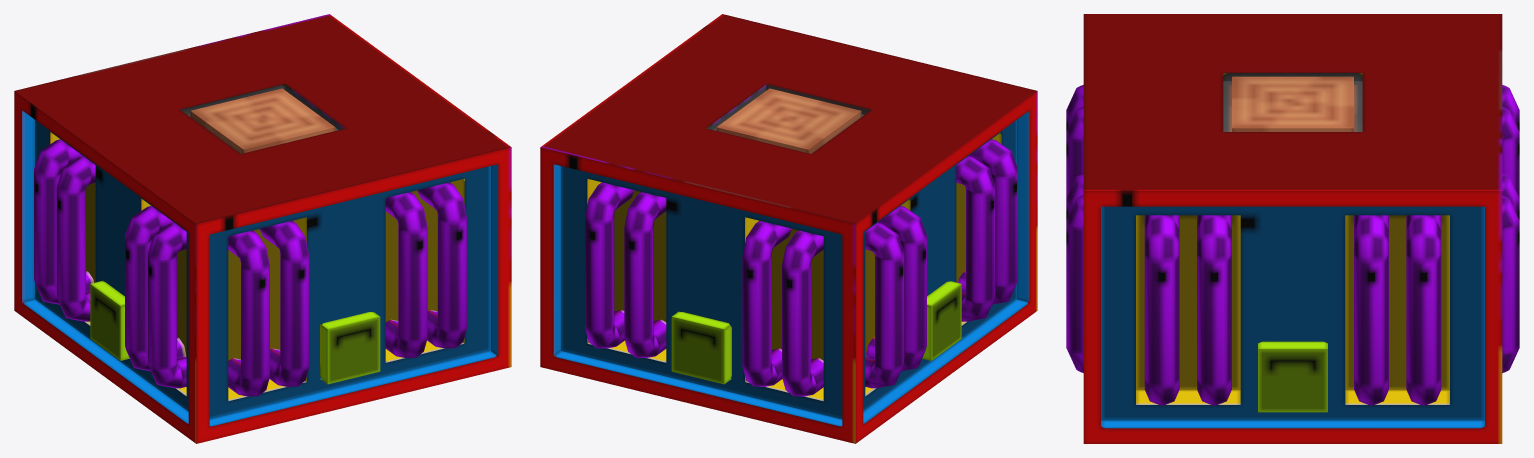
File: oilburner_hp.obj
The picture shows the model from 3 angles, left to right: view 1: azimuth 30°, elevation 25°; view 2: azimuth 150°, elevation 25°; view 3: azimuth 270°, elevation 25°; orthographic projection. The views are drawn at different scales.
Visible parts, largest first — view 1: Plane; view 2: Plane; view 3: Plane.
Boxes of the visible parts, bbox=[...] form: Plane: bbox=[14, 14, 511, 443]; Plane: bbox=[540, 14, 1037, 443]; Plane: bbox=[1066, 14, 1519, 443].
Bounding box in the file's own units: 3.25 × 2 × 3.25.
